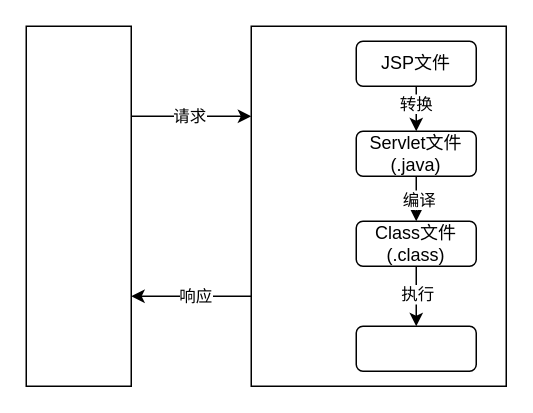
Image size: 533x413. Some labels were removed from this diagram. Here are the shapes that lost their labels. From the top down, the centre of each, then its label:
the point at 78,205: Client
the point at 415,348: Servlet实例
